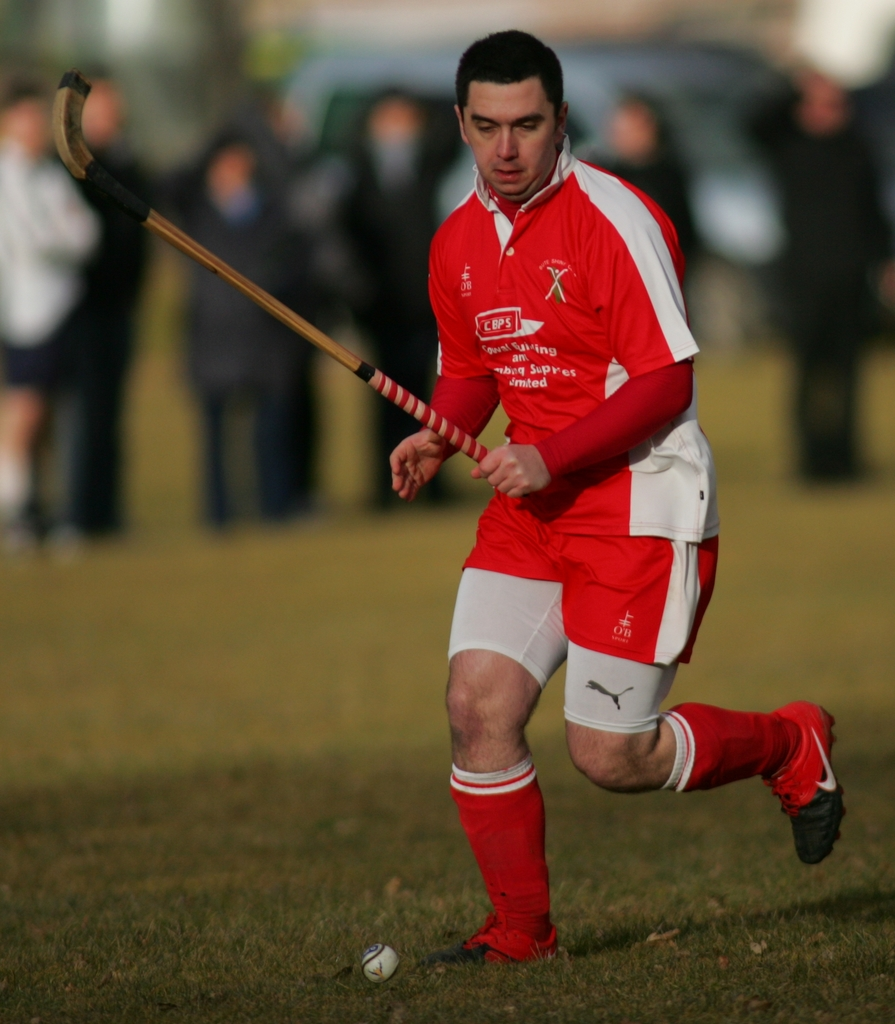Ball: (363, 948, 397, 982)
